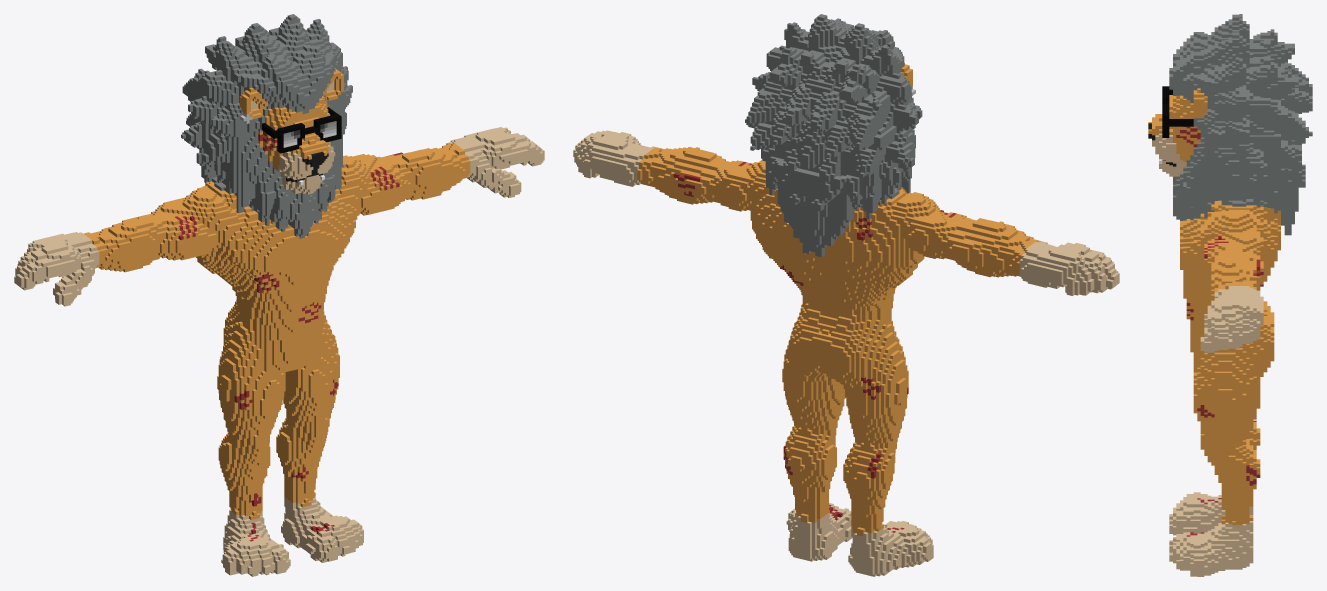
Rendered from 583-Di4YNiw-.glb.
The picture shows the model from 3 angles, left to right: view 1: azimuth 30°, elevation 25°; view 2: azimuth 150°, elevation 25°; view 3: azimuth 270°, elevation 25°; orthographic projection. The views are drawn at different scales.
Parts seen in each view (by area): view 1: standard; view 2: standard; view 3: standard.
Boxes of the visible parts, left/top/right/bottom form: standard: left=14, top=14, right=544, bottom=576; standard: left=573, top=14, right=1119, bottom=576; standard: left=1148, top=14, right=1312, bottom=576.
Bounding box in the file's own units: 17.2 × 16.5 × 4.7.
5 materials, 5 textured.
